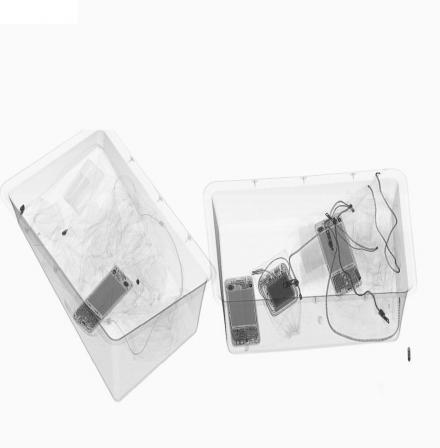Powerbank: (258, 260, 303, 316)
